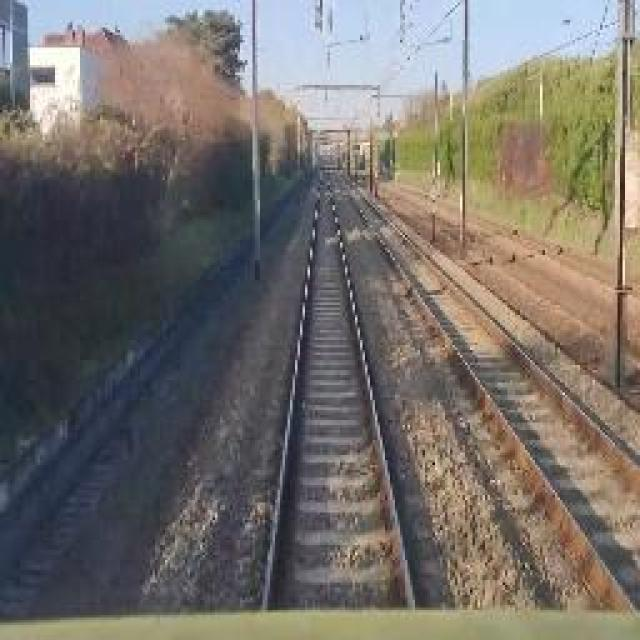rail: (327, 159, 640, 613), (232, 162, 451, 616)
